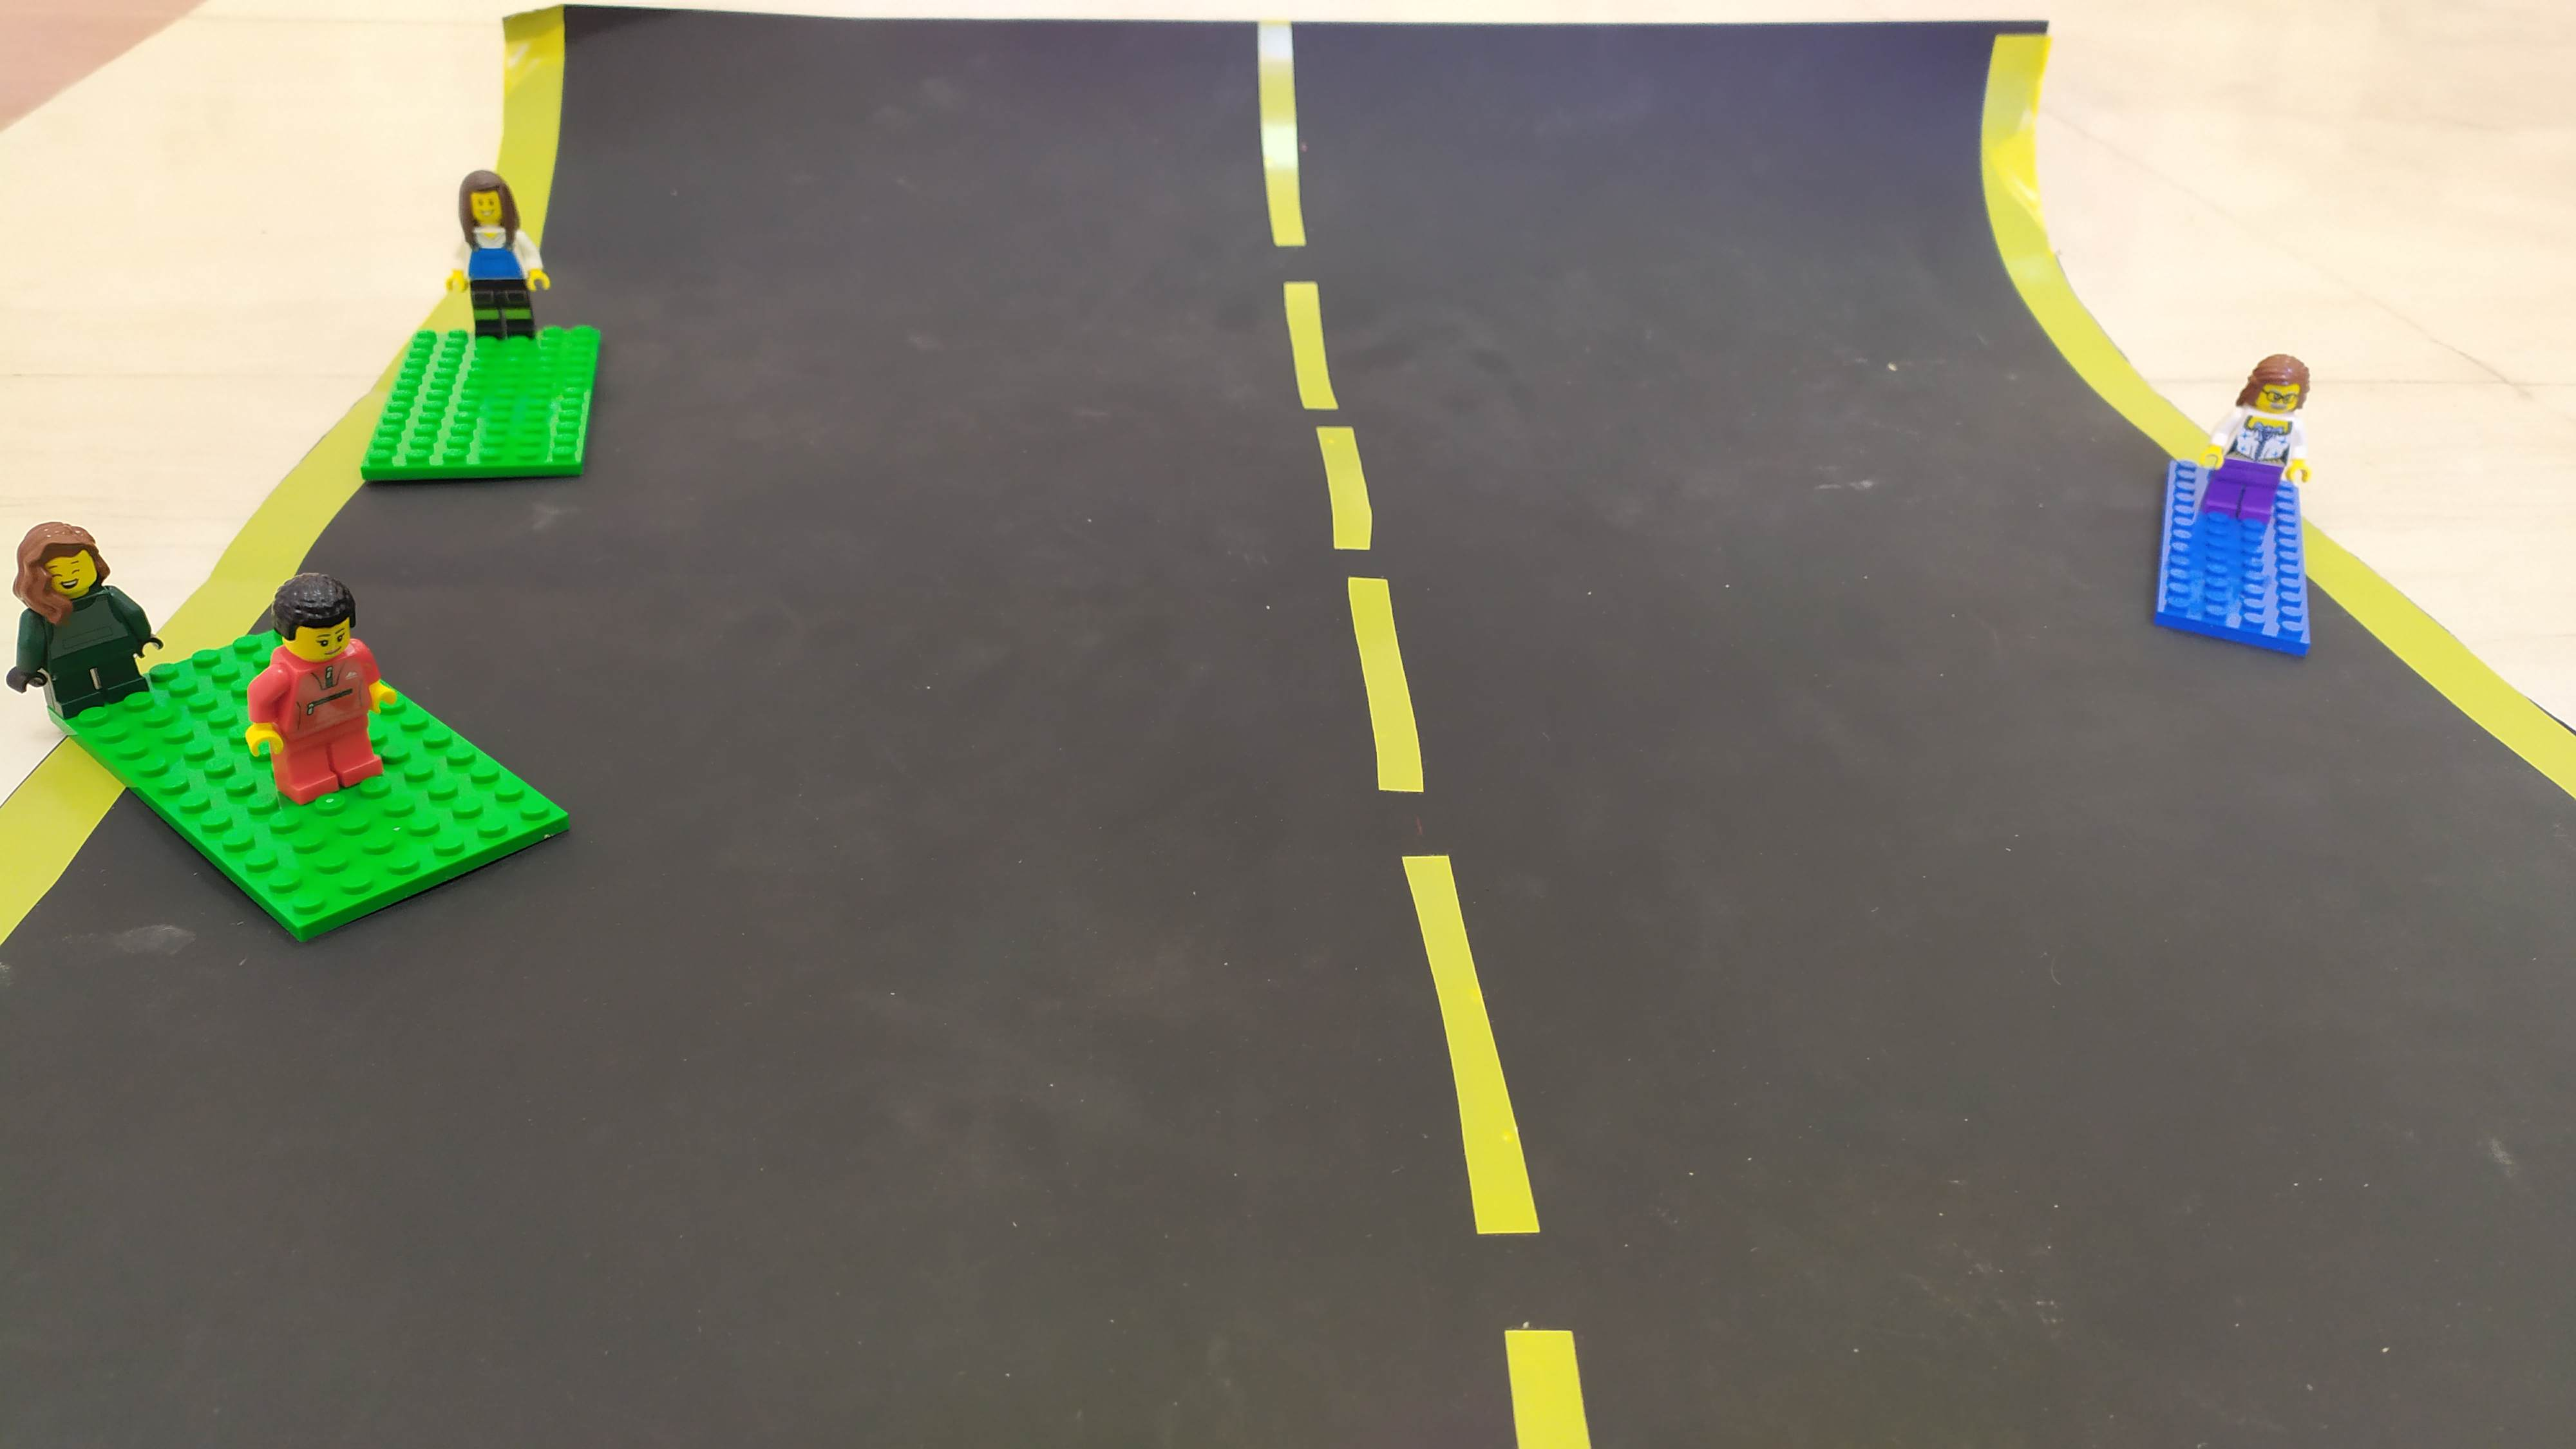Person: (248, 583, 390, 795), (3, 512, 145, 705), (2193, 357, 2328, 538), (441, 145, 557, 332)
